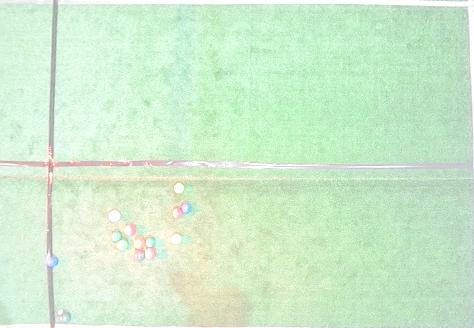blue: (181, 203, 192, 213), (47, 257, 58, 267)
green: (117, 239, 129, 251), (112, 231, 122, 242), (134, 251, 144, 261), (146, 238, 155, 247), (62, 314, 70, 323)
red: (108, 210, 121, 222), (172, 208, 182, 218)
vline: (1, 0, 59, 327), (466, 0, 473, 328)
white: (58, 309, 63, 315)
